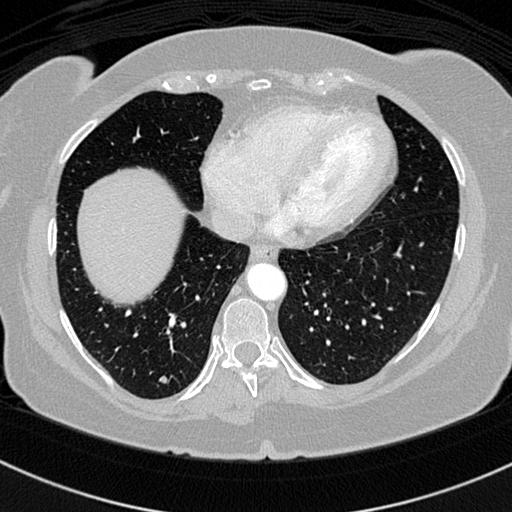nodule: (157, 374, 169, 386)
